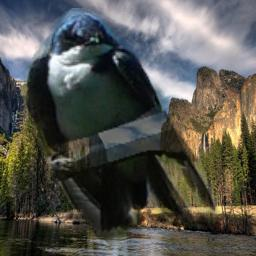Swallow: (19, 8, 225, 255)
